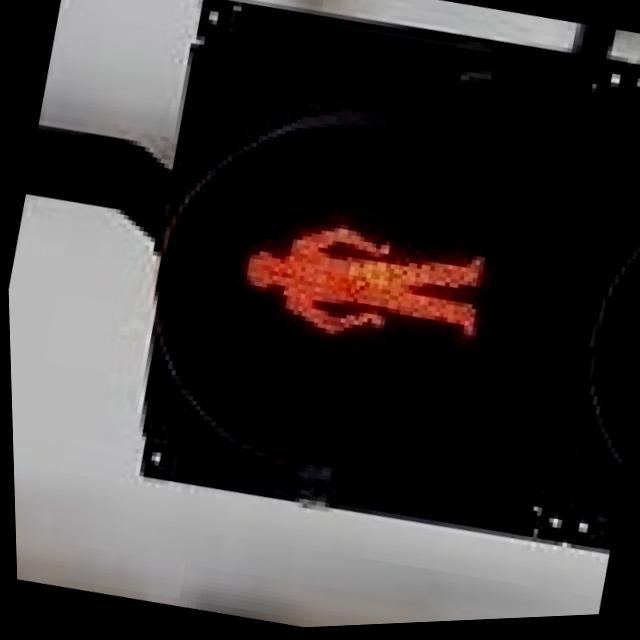red_light: (185, 167, 515, 382)
